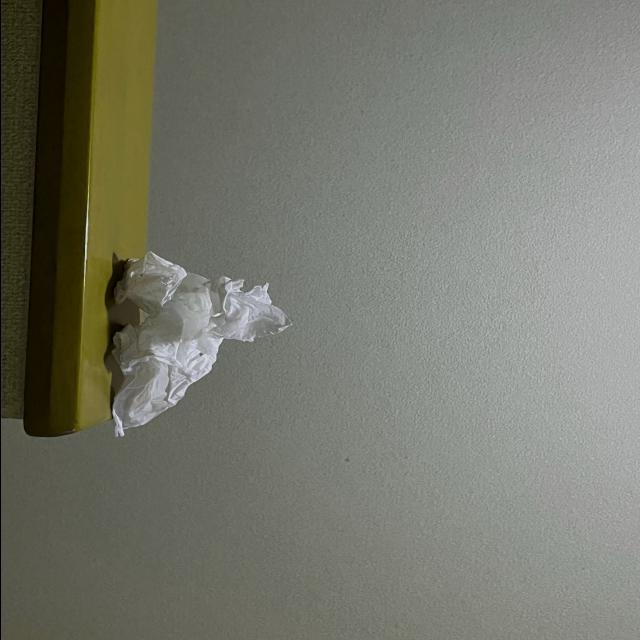Paper: (107, 238, 245, 432)
